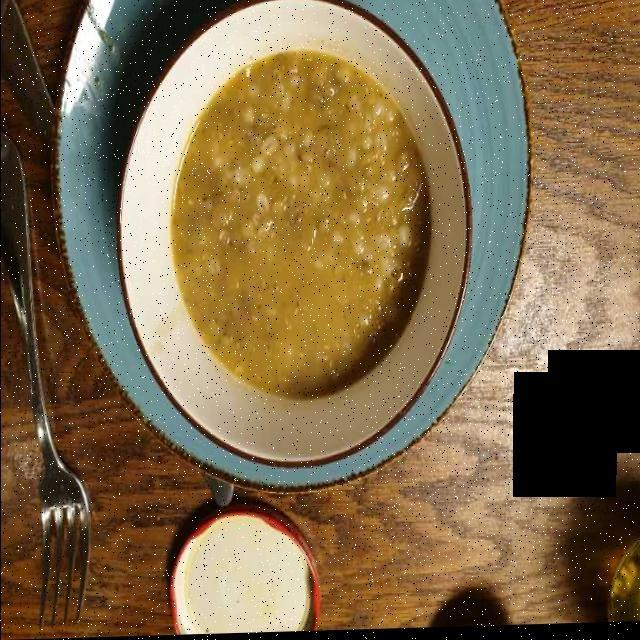soup: (176, 64, 418, 392)
